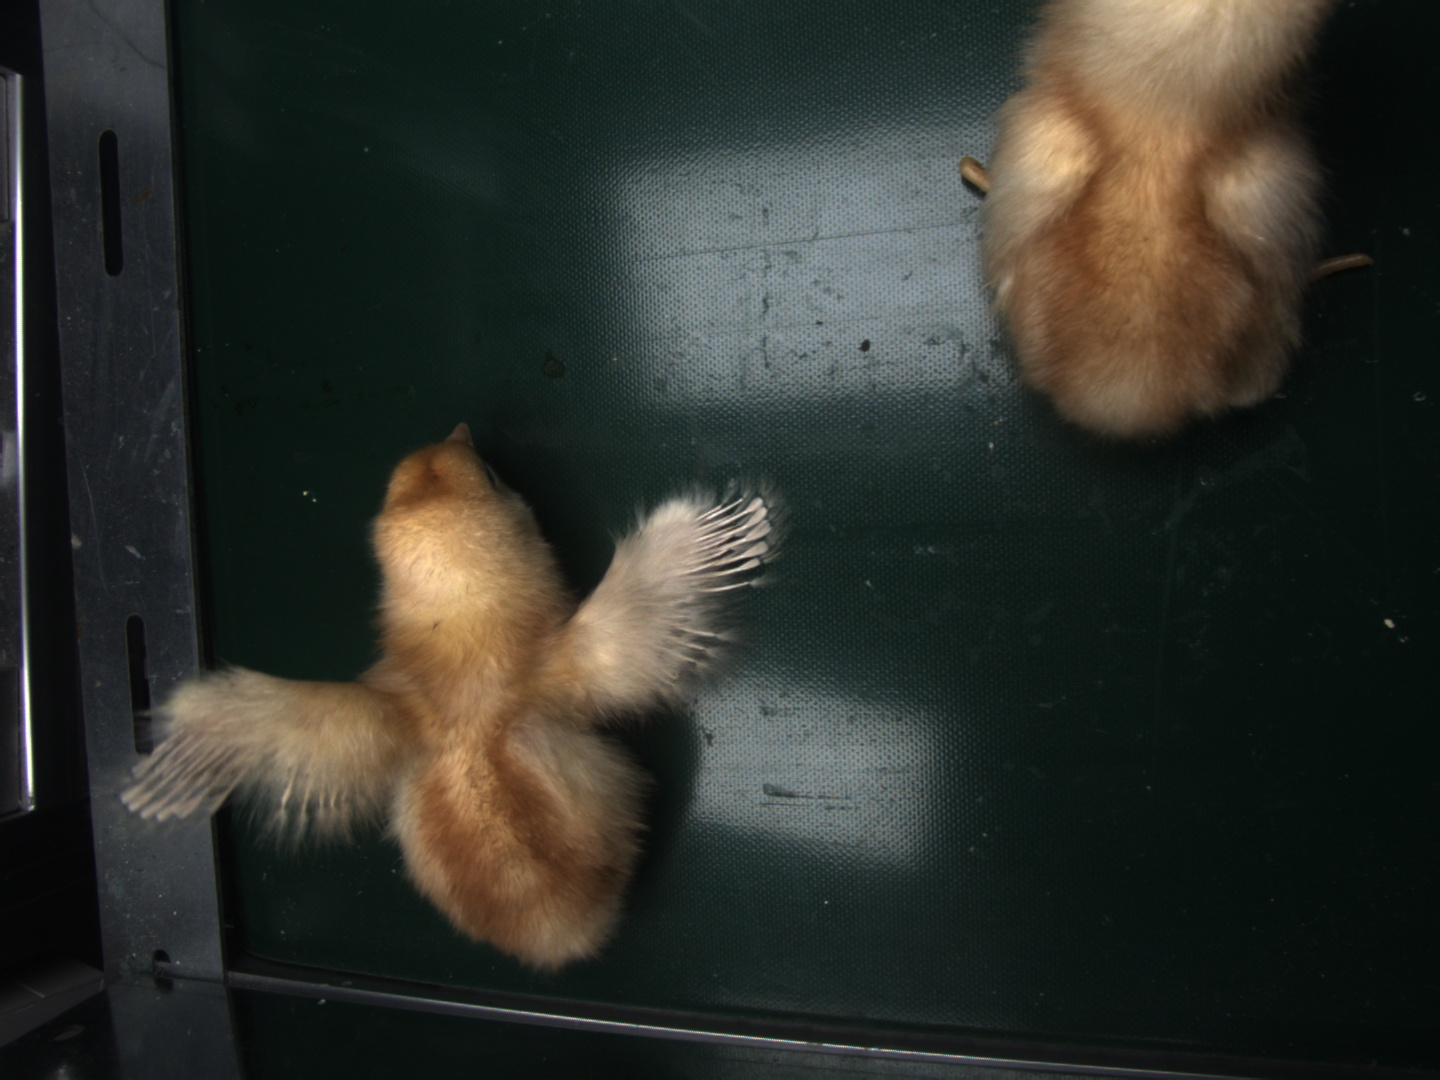female: (693, 493, 776, 592)
